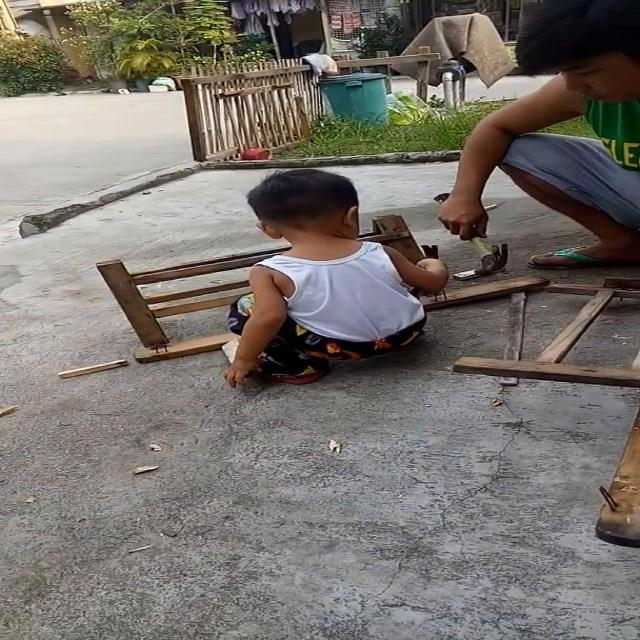hammer: (436, 192, 512, 280)
